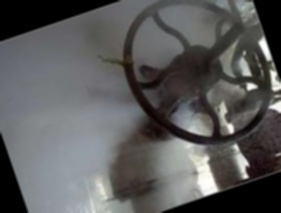smoke: (0, 33, 166, 213)
